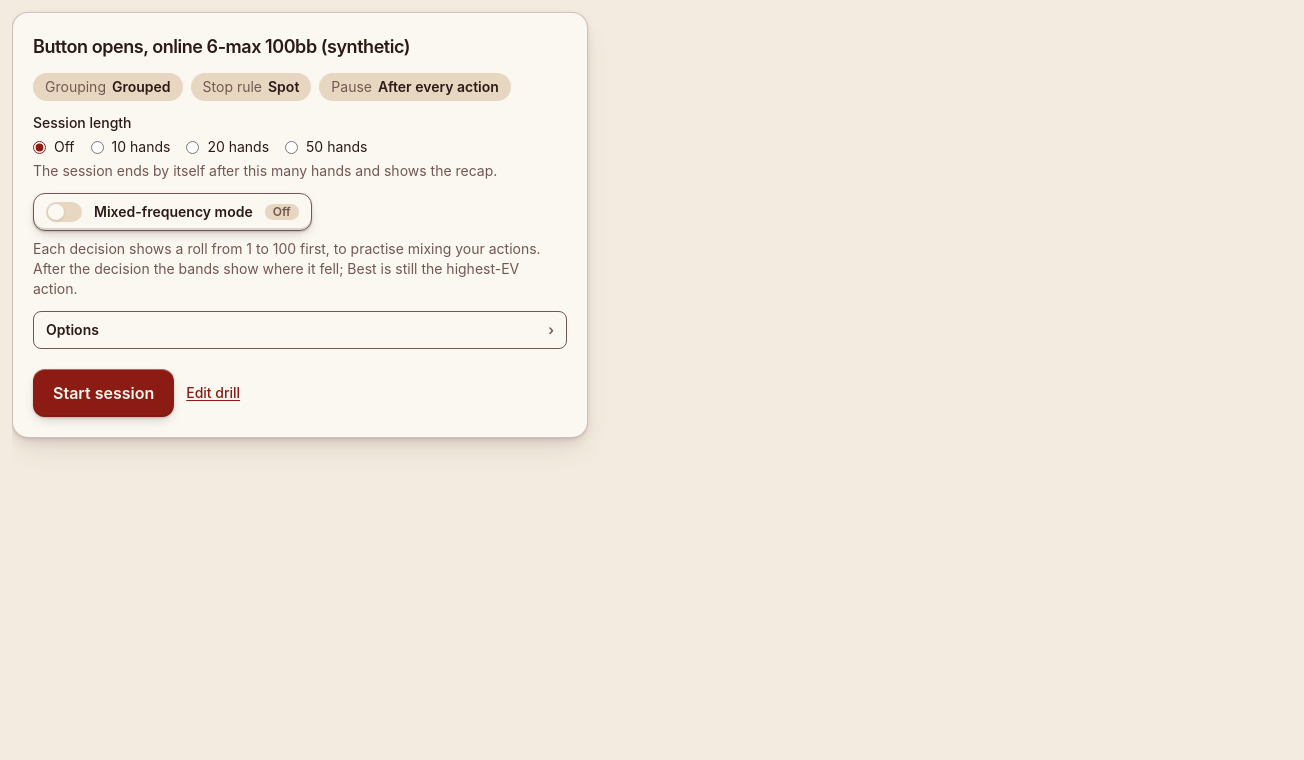
Scenario: R3.13 drill run start panel › R3.13 Start works again after a 422: a new request with a new key
The width and height of the screenshot is (1304, 760).
Expected: the heading "Button opens, online 6-max 100bb (synthetic)" is shown, x1=33 y1=33 x2=410 y2=61
Click the button "Start session" at {"x": 104, "y": 393}, box x1=33 y1=369 x2=174 y2=417
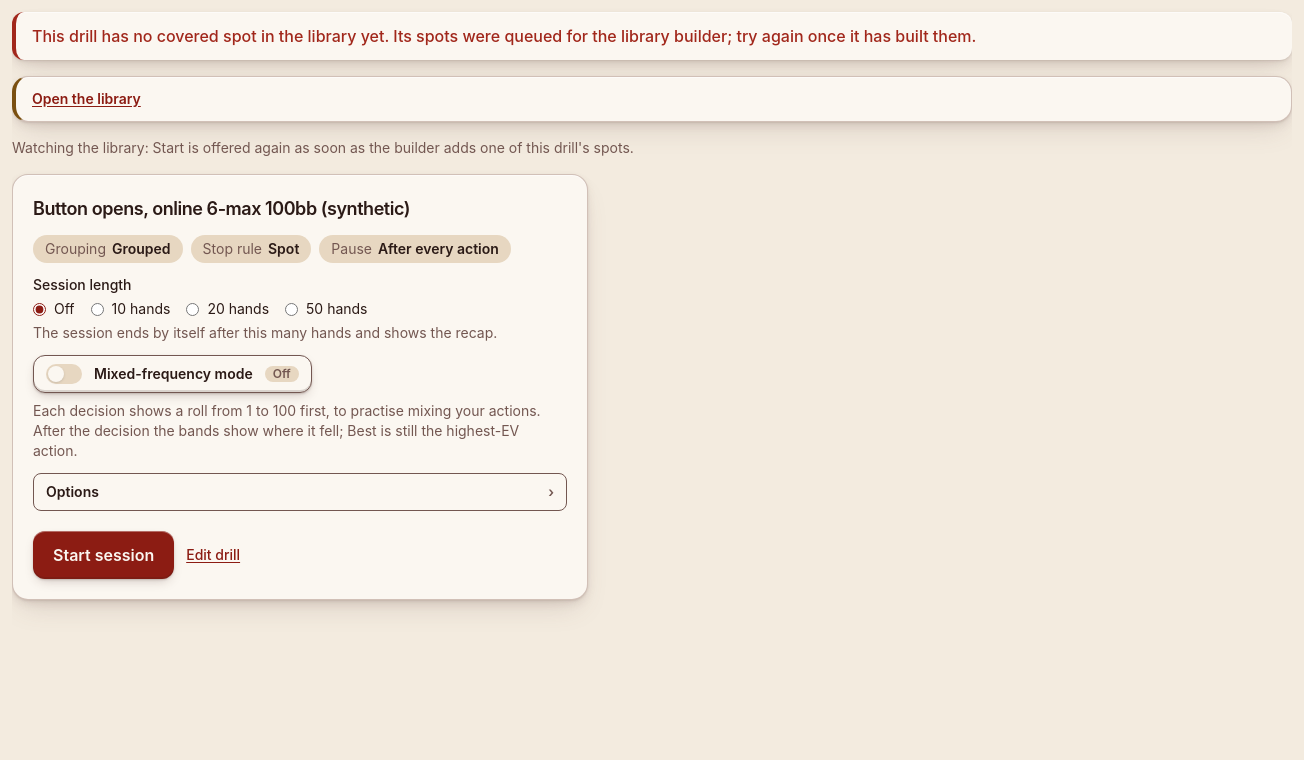
Expected: the 1st message is shown, x1=12 y1=12 x2=1292 y2=60
Click the button "Start session" at {"x": 104, "y": 555}, box x1=33 y1=531 x2=174 y2=579
(page scrolled)
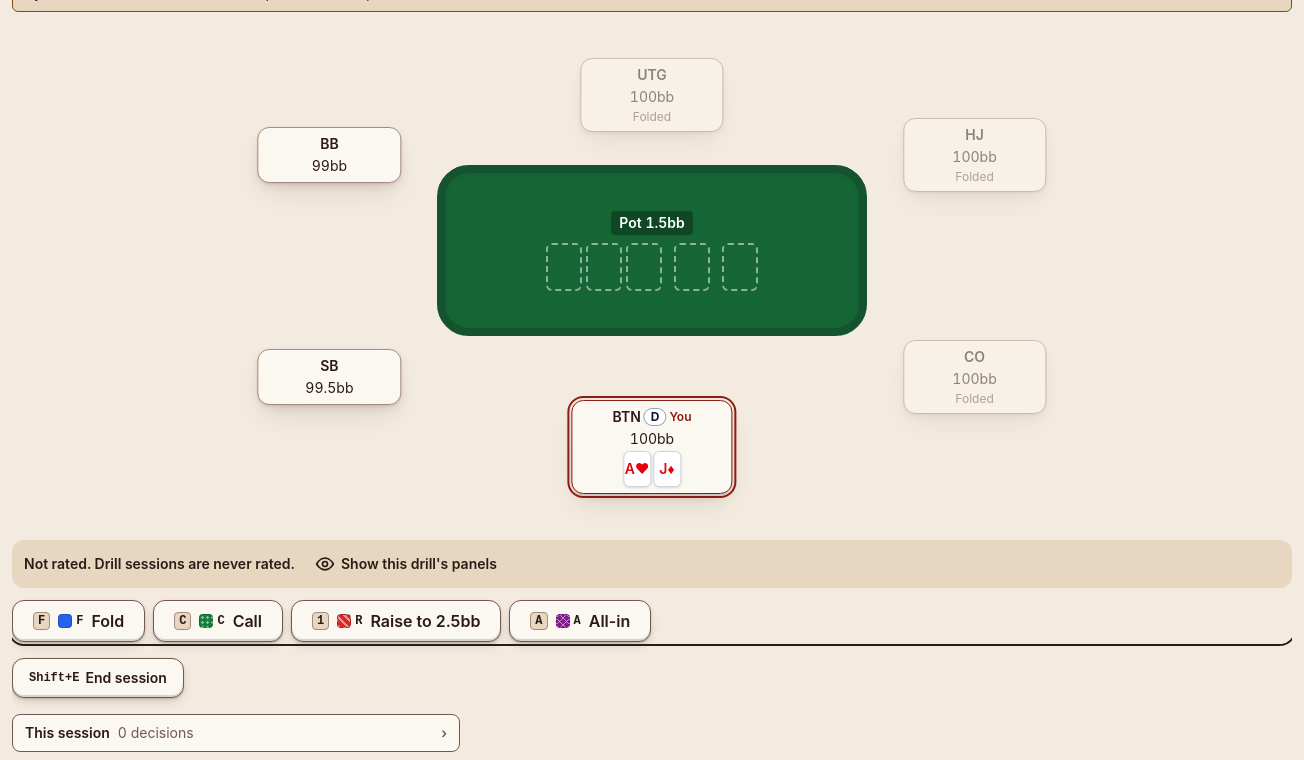
Expected: the element named "Actions" is shown, x1=12 y1=600 x2=651 y2=642
